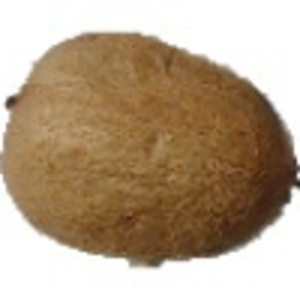kiwi: (1, 29, 300, 271)
